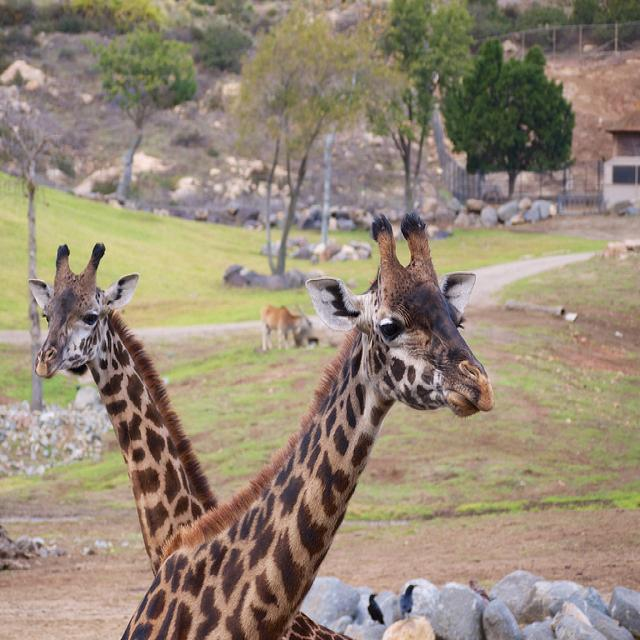Vehicle: (604, 155, 640, 216)
